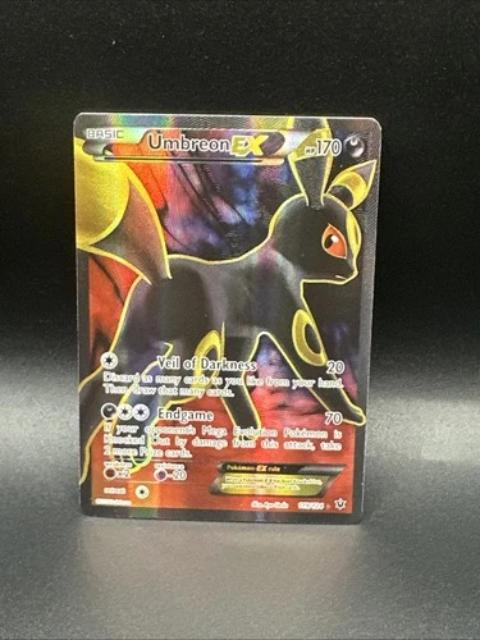Card: (69, 107, 386, 530)
Name: (144, 129, 276, 160)
